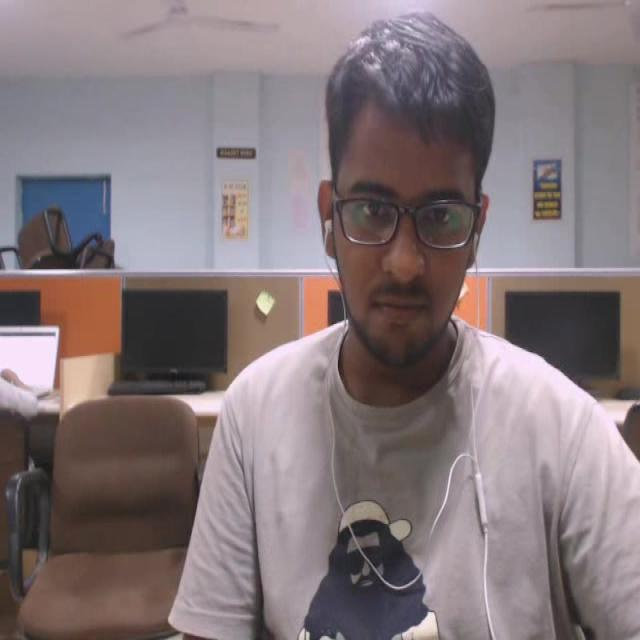Engaged: (301, 16, 502, 418)
